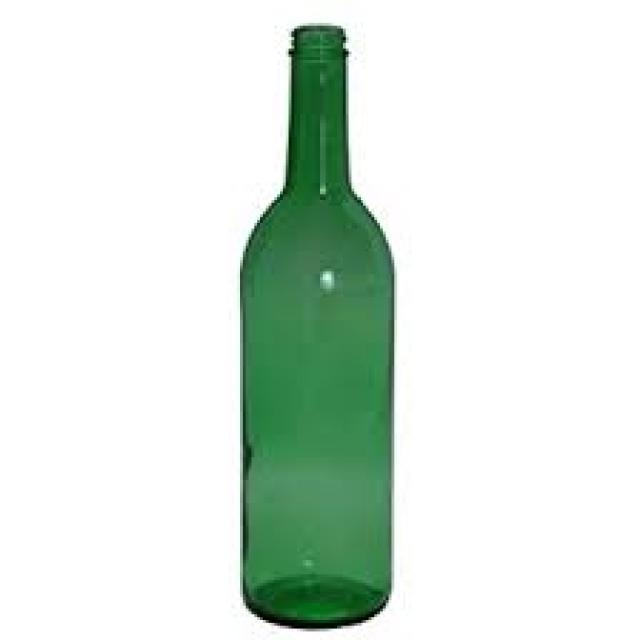glass: (237, 23, 392, 626)
